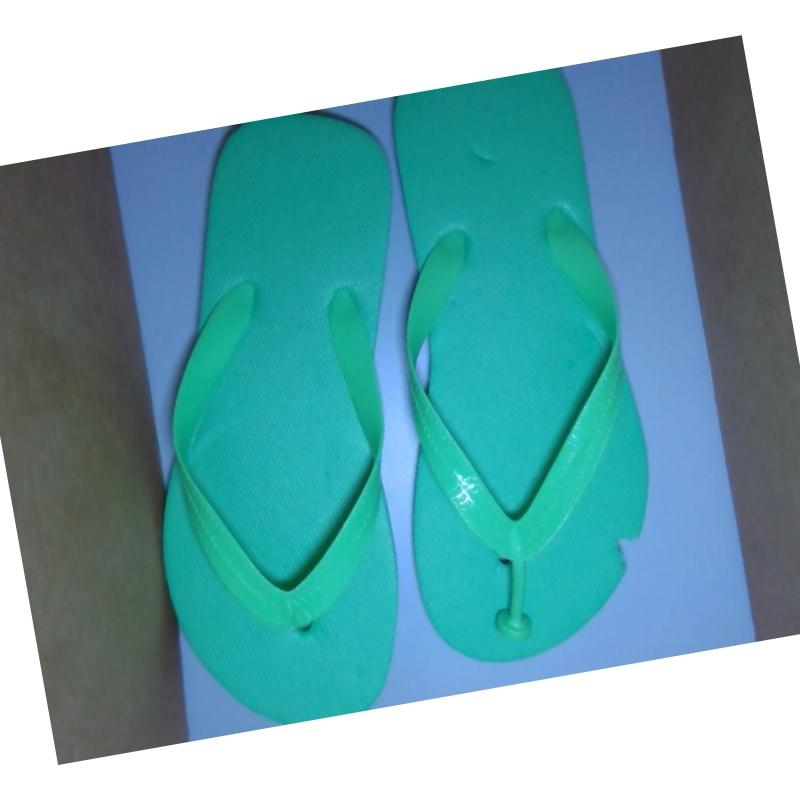chipped: (603, 520, 652, 590)
detached: (481, 584, 550, 649)
